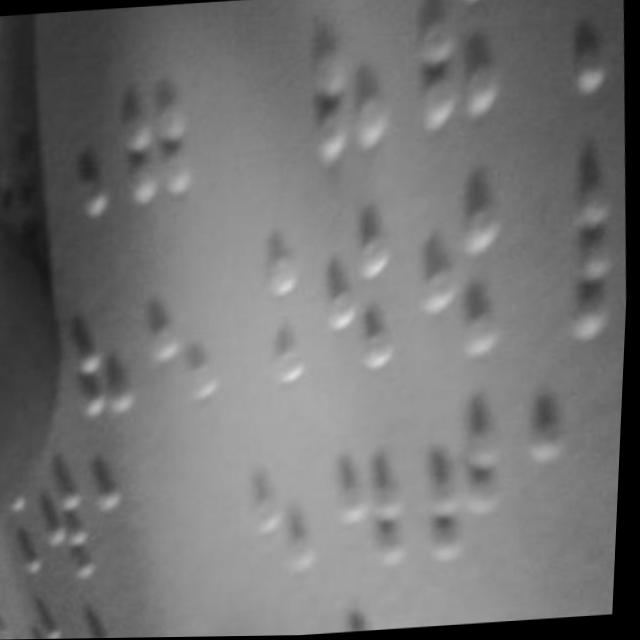braiile: (108, 24, 202, 208), (136, 237, 233, 408), (300, 0, 403, 160), (416, 199, 514, 363), (226, 232, 322, 393), (320, 221, 414, 380), (537, 190, 630, 344), (61, 257, 145, 425), (408, 0, 513, 134), (424, 416, 513, 572), (334, 428, 422, 581), (246, 443, 332, 590), (513, 0, 615, 110)
